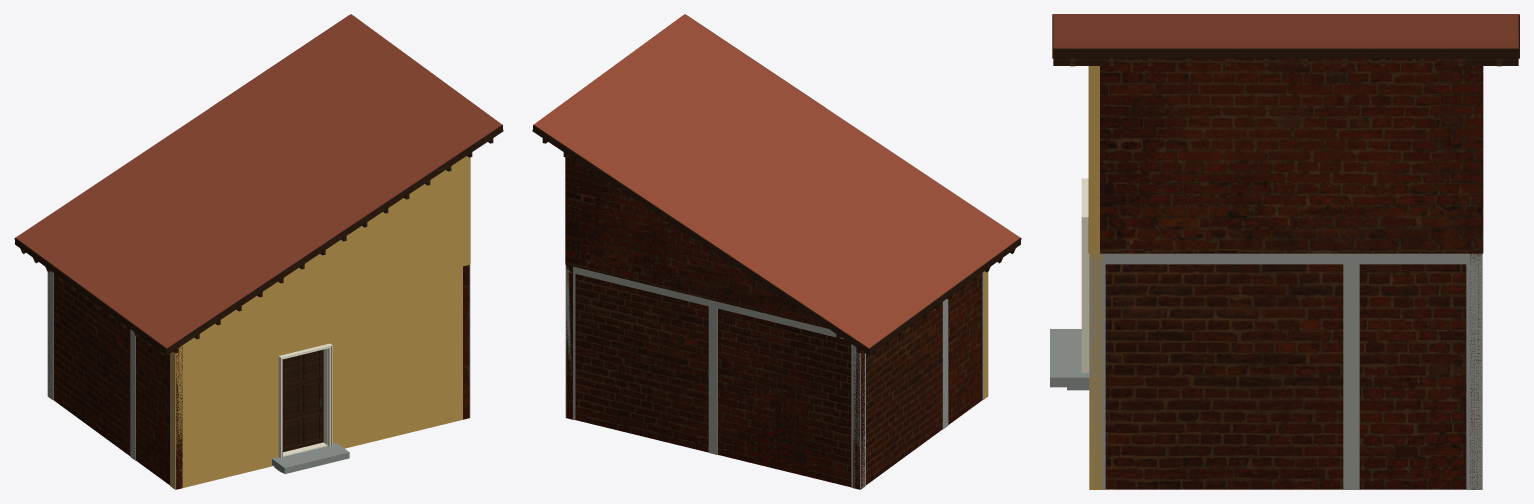
Rendered from building.glb.
3 renders of one model, left to right at view 1: azimuth 30°, elevation 25°; view 2: azimuth 150°, elevation 25°; view 3: azimuth 270°, elevation 25°, orthographic. The views are drawn at different scales.
Visible parts, largest first — view 1: roof_assembly/cubierta/roof_cover#0001, house:0/edge0/z0/house:0/edge0/z0/wall_0_0, house:0/edge3/z0/house:0/edge3/z0/wall_0_0, roof_assembly/cubierta/roof_gable_closure#0002, roof_assembly/cubierta/roof_fascia#0002, site/entrance/0/entrance_step#0002, roof_assembly/cubierta/roof_fascia#0001, house:0/edge1/z0/house:0/edge1/z0/wall_0_0, house:0/edge3/z0/house:0/edge3/z0/column_0_0, house:0/edge0/z0/opening_u2.80_v0.12/door_panel_back#0001, house:0/edge3/z0/house:0/edge3/z0/column_2_0, house:0/edge0/z0/opening_u2.80_v0.12/door_moulding#0028 (+1 smaller); view 2: roof_assembly/cubierta/roof_cover#0001, house:0/edge2/z0/house:0/edge2/z0/wall_0_0, house:0/edge3/z0/house:0/edge3/z0/wall_0_0, roof_assembly/cubierta/roof_gable_closure#0006, roof_assembly/cubierta/roof_fascia#0004, house:0/edge2/z0/house:0/edge2/z0/beam_0_0, house:0/edge2/z0/house:0/edge2/z0/column_2_0, house:0/edge2/z0/house:0/edge2/z0/column_1_0, roof_assembly/cubierta/roof_fascia#0001, house:0/edge1/z0/house:0/edge1/z0/wall_0_0, house:0/edge3/z0/house:0/edge3/z0/column_2_0, house:0/edge2/z0/house:0/edge2/z0/column_0_0 (+3 smaller); view 3: house:0/edge1/z0/house:0/edge1/z0/wall_0_0, roof_assembly/cubierta/roof_gable_closure#0004, roof_assembly/cubierta/roof_cover#0001, roof_assembly/cubierta/roof_fascia#0003, house:0/edge1/z0/house:0/edge1/z0/beam_0_0, house:0/edge1/z0/house:0/edge1/z0/column_1_0, house:0/edge1/z0/house:0/edge1/z0/column_2_0, house:0/edge1/z0/house:0/edge1/z0/column_0_0, house:0/edge0/z0/house:0/edge0/z0/wall_0_0, roof_assembly/cubierta/roof_gable_closure#0003, site/entrance/0/entrance_step#0002, house:0/edge0/z0/opening_u2.80_v0.12/door_moulding#0028 (+1 smaller).
Boxes of the visible parts, x1,y1,x2,y2 form: roof_assembly/cubierta/roof_cover#0001: (16,14,501,348); house:0/edge0/z0/house:0/edge0/z0/wall_0_0: (171,266,470,489); house:0/edge3/z0/house:0/edge3/z0/wall_0_0: (53,273,182,489); roof_assembly/cubierta/roof_gable_closure#0002: (207,156,470,328); roof_assembly/cubierta/roof_fascia#0002: (165,126,503,354); site/entrance/0/entrance_step#0002: (272,443,349,473); roof_assembly/cubierta/roof_fascia#0001: (15,238,167,354); house:0/edge1/z0/house:0/edge1/z0/wall_0_0: (463,265,469,419); house:0/edge3/z0/house:0/edge3/z0/column_0_0: (47,271,53,400); house:0/edge0/z0/opening_u2.80_v0.12/door_panel_back#0001: (283,354,319,444); house:0/edge3/z0/house:0/edge3/z0/column_2_0: (130,329,135,460); house:0/edge0/z0/opening_u2.80_v0.12/door_moulding#0028: (278,343,332,458); roof_assembly/cubierta/roof_cover#0001: (534,14,1019,348); house:0/edge2/z0/house:0/edge2/z0/wall_0_0: (575,274,864,488); house:0/edge3/z0/house:0/edge3/z0/wall_0_0: (853,273,982,489); roof_assembly/cubierta/roof_gable_closure#0006: (571,157,828,328); roof_assembly/cubierta/roof_fascia#0004: (532,126,870,354); house:0/edge2/z0/house:0/edge2/z0/beam_0_0: (565,265,843,339); house:0/edge2/z0/house:0/edge2/z0/column_2_0: (708,306,717,454); house:0/edge2/z0/house:0/edge2/z0/column_1_0: (851,344,860,489); roof_assembly/cubierta/roof_fascia#0001: (868,238,1020,354); house:0/edge1/z0/house:0/edge1/z0/wall_0_0: (566,265,572,419); house:0/edge3/z0/house:0/edge3/z0/column_2_0: (942,299,948,429); house:0/edge2/z0/house:0/edge2/z0/column_0_0: (565,271,575,420); house:0/edge1/z0/house:0/edge1/z0/wall_0_0: (1105,264,1466,489); roof_assembly/cubierta/roof_gable_closure#0004: (1100,58,1482,253); roof_assembly/cubierta/roof_cover#0001: (1053,14,1518,48); roof_assembly/cubierta/roof_fascia#0003: (1053,48,1518,58); house:0/edge1/z0/house:0/edge1/z0/beam_0_0: (1089,253,1482,264); house:0/edge1/z0/house:0/edge1/z0/column_1_0: (1466,264,1482,489); house:0/edge1/z0/house:0/edge1/z0/column_2_0: (1343,264,1359,489); house:0/edge1/z0/house:0/edge1/z0/column_0_0: (1089,264,1105,489); house:0/edge0/z0/house:0/edge0/z0/wall_0_0: (1089,253,1102,489); roof_assembly/cubierta/roof_gable_closure#0003: (1088,66,1099,253); site/entrance/0/entrance_step#0002: (1050,329,1089,387); house:0/edge0/z0/opening_u2.80_v0.12/door_moulding#0028: (1081,178,1089,372).
Size of the model in its own units: 9.16 by 7.74 by 7.17.
Materials: 8 (2 with a texture image).
